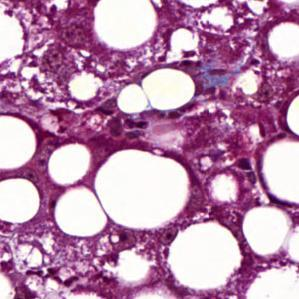steatosis: (0, 112, 35, 173), (1, 176, 40, 225)
